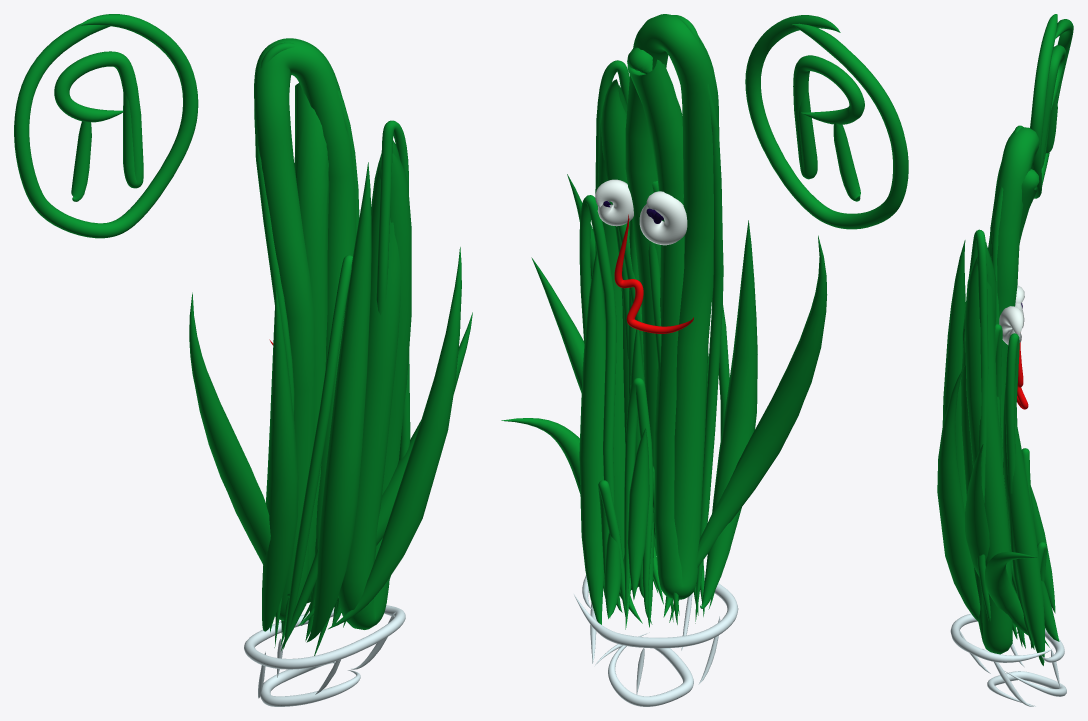
File: snake.glb
3 renders of one model, left to right at view 1: azimuth 30°, elevation 25°; view 2: azimuth 150°, elevation 25°; view 3: azimuth 270°, elevation 25°, orthographic. The views are drawn at different scales.
Parts seen in each view (by area): view 1: snake; view 2: snake; view 3: snake.
Part boxes in pixels (<box>): snake: <box>14,14,472,706</box>; snake: <box>501,14,908,706</box>; snake: <box>937,14,1073,706</box>.
Bounding box in the file's own units: 0.6605 × 1.1 × 0.2238.
1 material, 1 textured.
